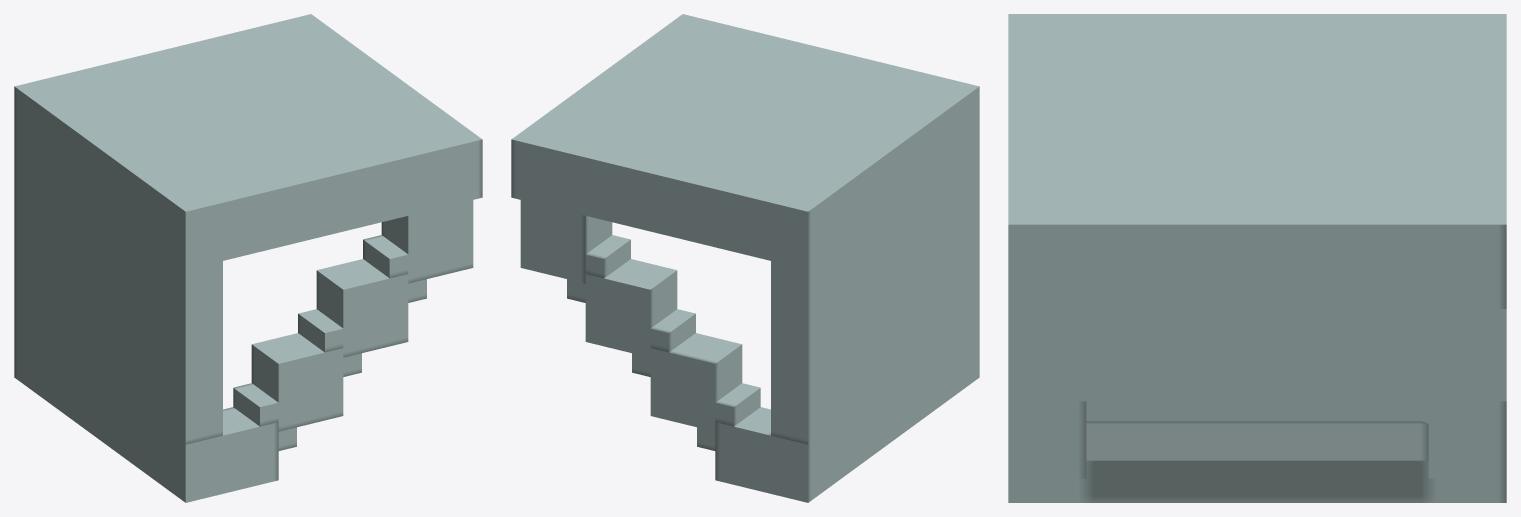
The model's file is barek_stl.dae.
3 renders of one model, left to right at view 1: azimuth 30°, elevation 25°; view 2: azimuth 150°, elevation 25°; view 3: azimuth 270°, elevation 25°, orthographic. The views are drawn at different scales.
Visible parts, largest first — view 1: Content; view 2: Content; view 3: Content.
Boxes of the visible parts, x1,y1,x2,y2 form: Content: [14, 14, 482, 502]; Content: [511, 14, 979, 502]; Content: [1008, 14, 1506, 502].
Bounding box in the file's own units: 32 × 30 × 32.
1 material, 1 textured.
